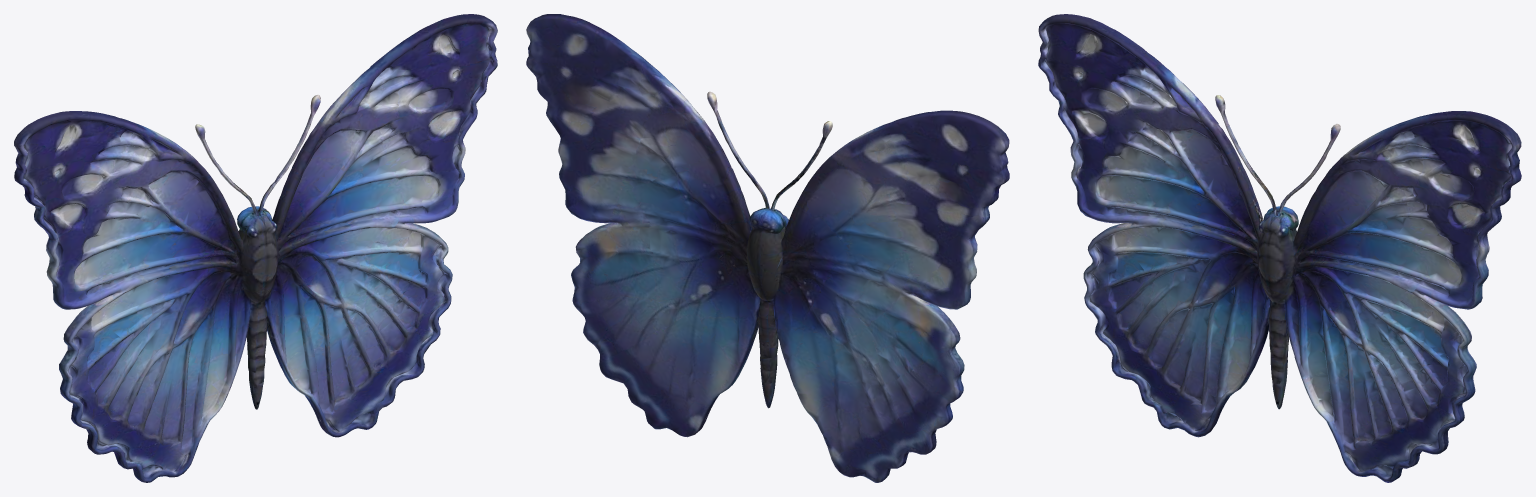
3 renders of one model, left to right at view 1: azimuth 30°, elevation 25°; view 2: azimuth 150°, elevation 25°; view 3: azimuth 330°, elevation 25°, orthographic.
Size of the model in its own units: 1.9 by 1.48 by 0.1506.
1 material, 1 textured.
